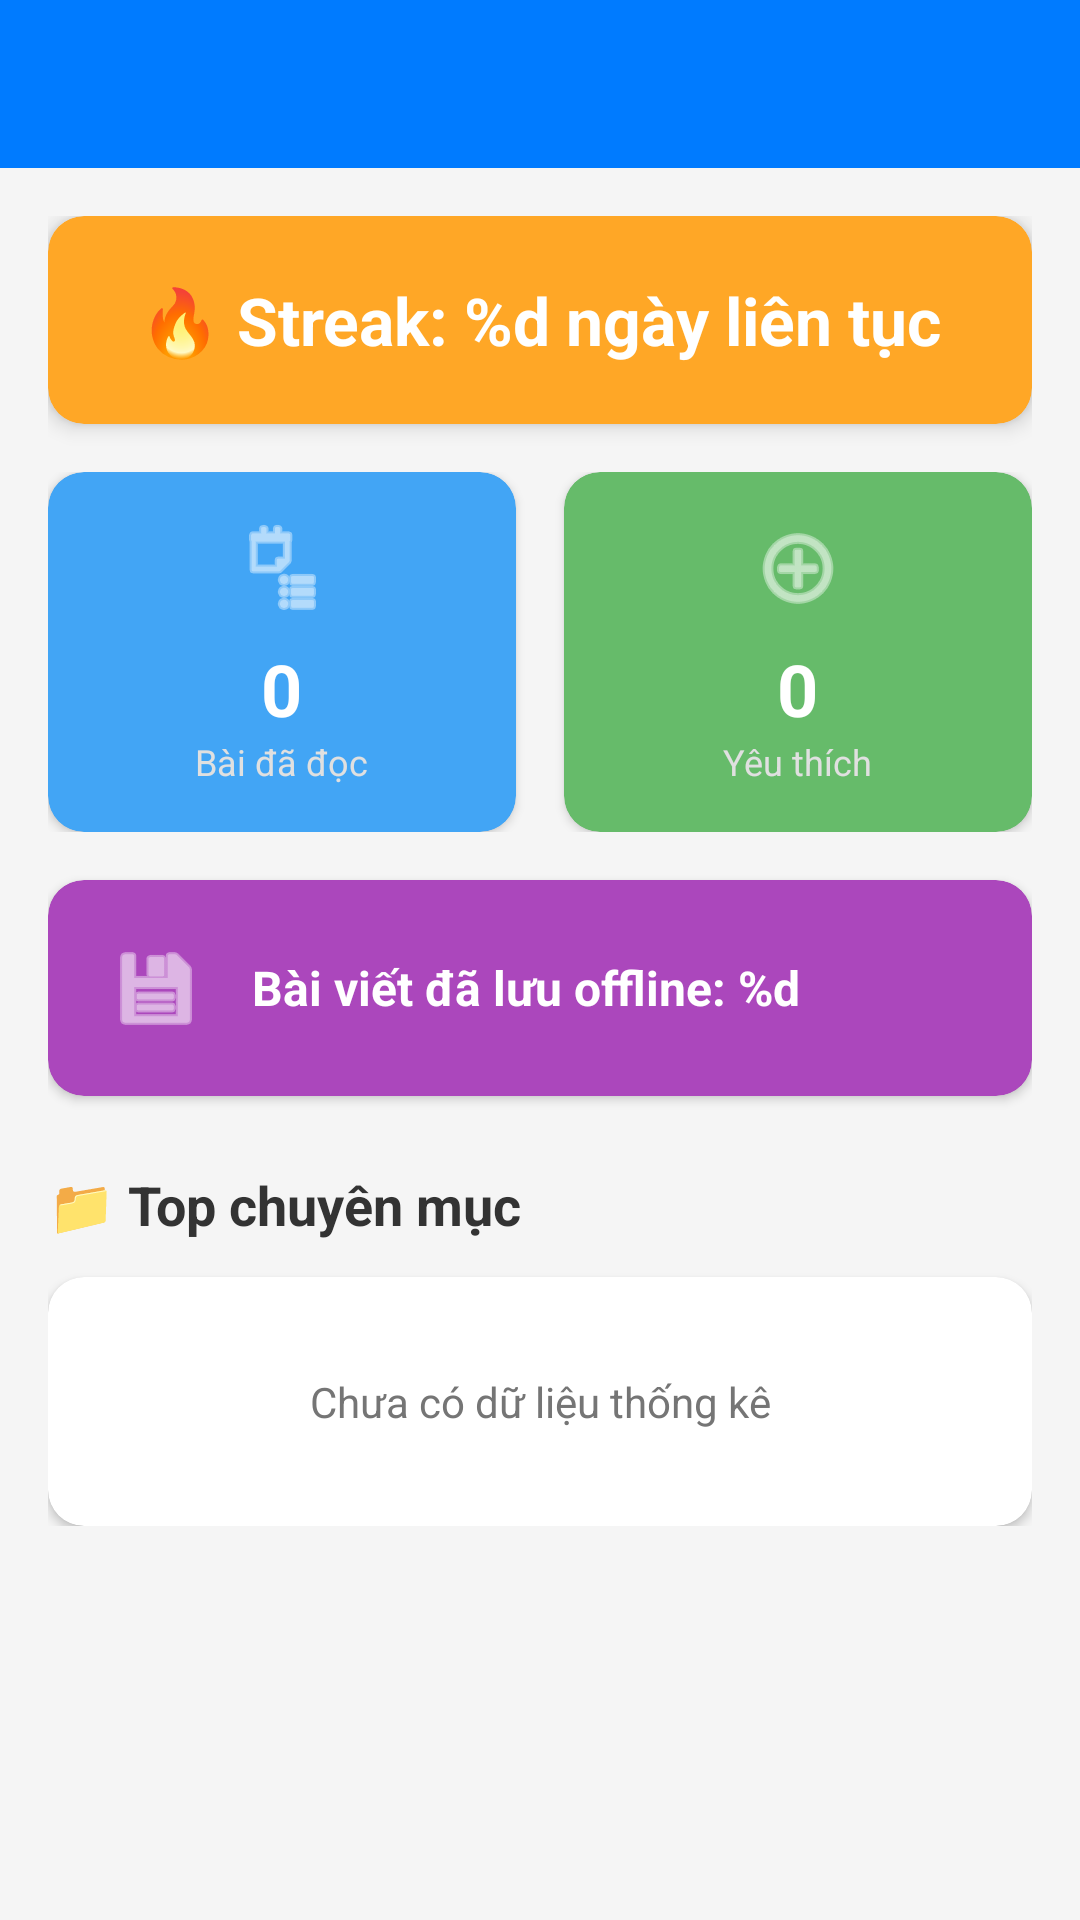

Point at icon controls on the screen. Image size 1080*1920, points as (x,y).
add: (798,568)
agenda: (282,567)
save: (156,988)
